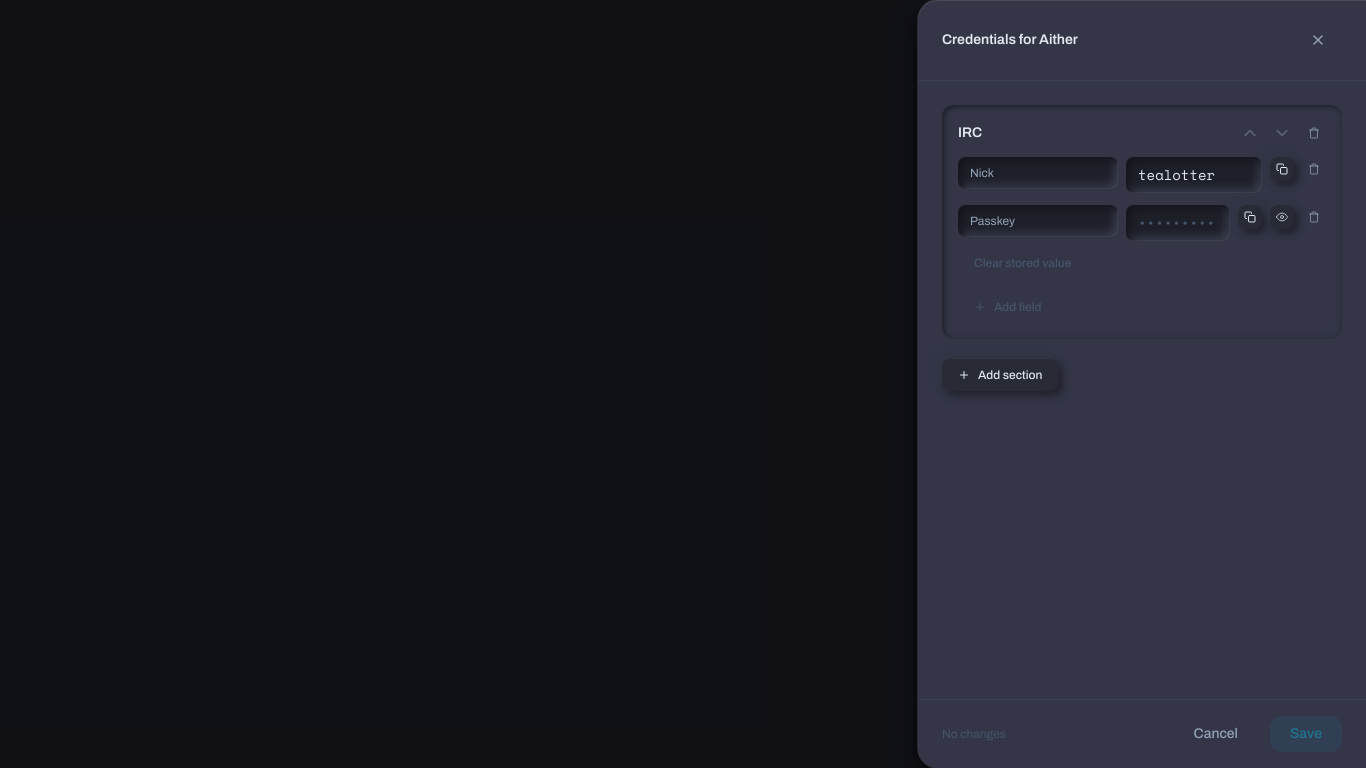
Scenario: reveal fetches exactly one field › puts the revealed value on screen and flips the toggle's state
Click the button named "Show Passkey" at x=1282, y=217, box 1270,205 -> 1294,229
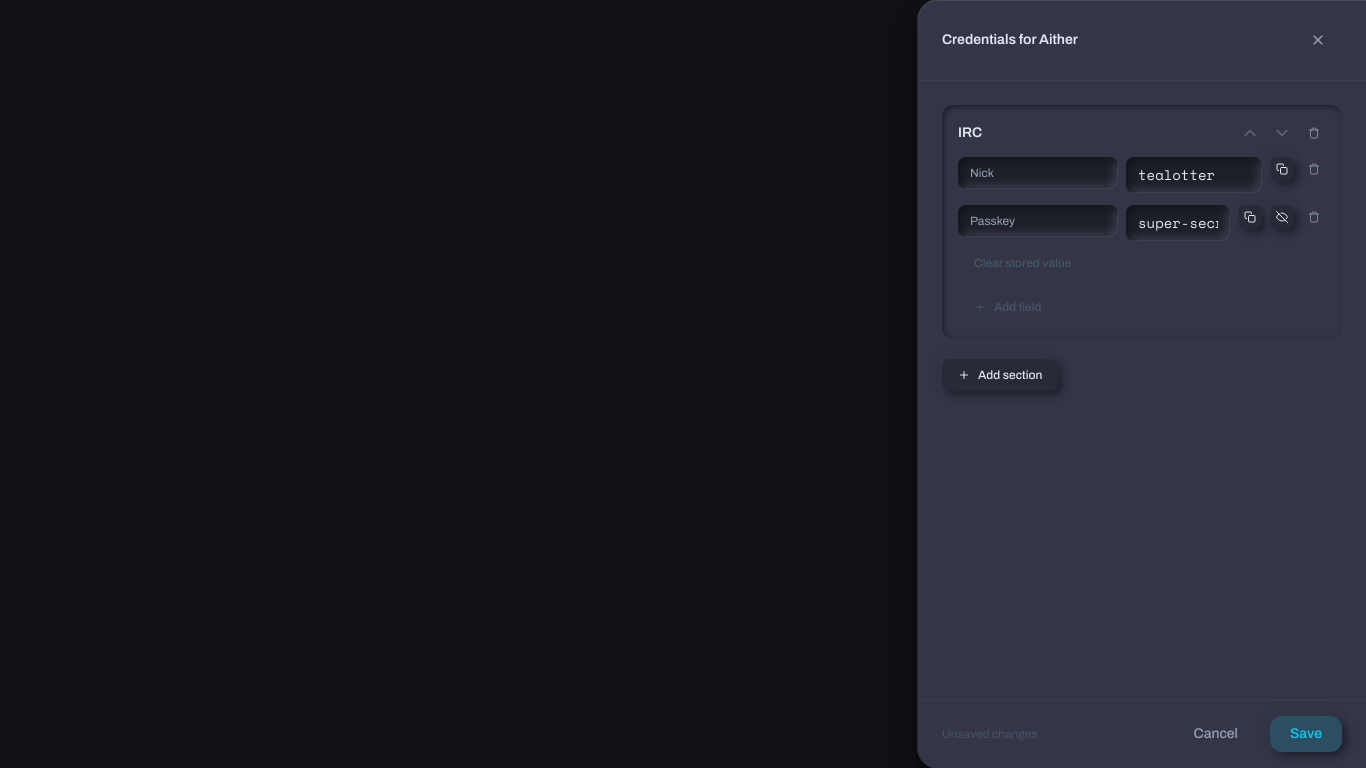
Expected: the 2nd field named "Passkey" holds "super-secret-passkey-value", 1126,205 -> 1230,241
